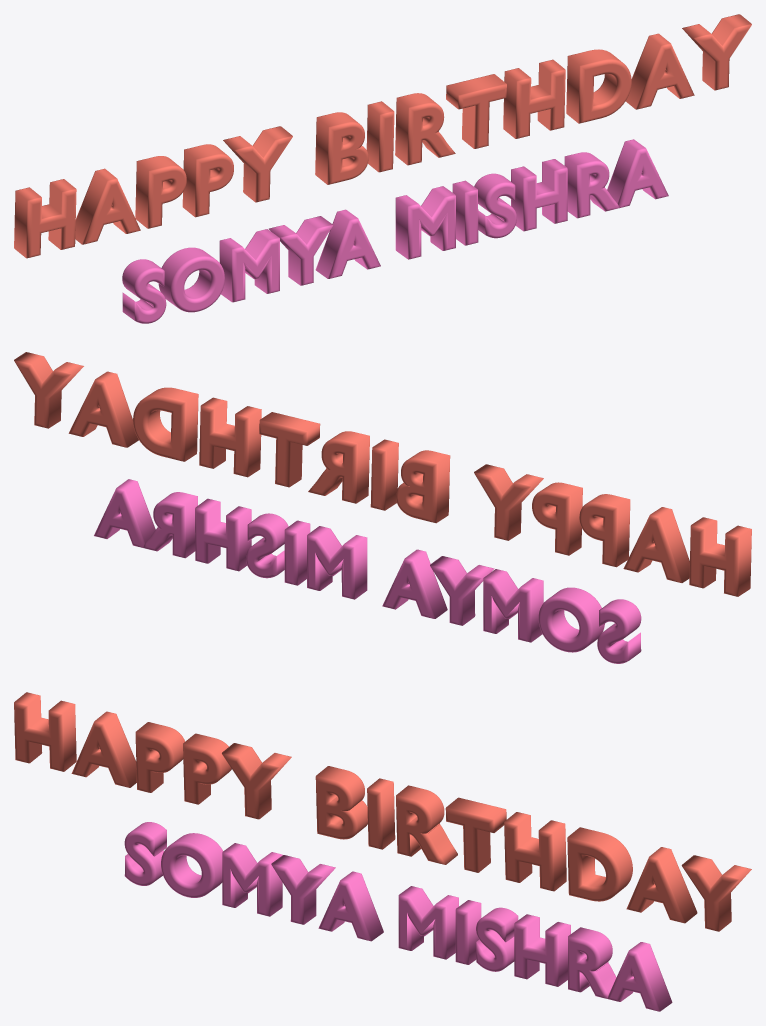
Rendered from wishsomya.gltf.
3 renders of one model, top to bottom at view 1: azimuth 30°, elevation 25°; view 2: azimuth 150°, elevation 25°; view 3: azimuth 330°, elevation 25°, orthographic.
Visible parts, largest first — view 1: Text, Text.001; view 2: Text, Text.001; view 3: Text, Text.001.
Boxes of the visible parts, x1,y1,x2,y2 form: Text: (14, 14, 751, 258); Text.001: (122, 139, 668, 323); Text: (14, 352, 751, 596); Text.001: (94, 479, 641, 663); Text: (14, 692, 751, 931); Text.001: (124, 822, 672, 1011).
Size of the model in its own units: 10.9 by 2.23 by 0.4463.
